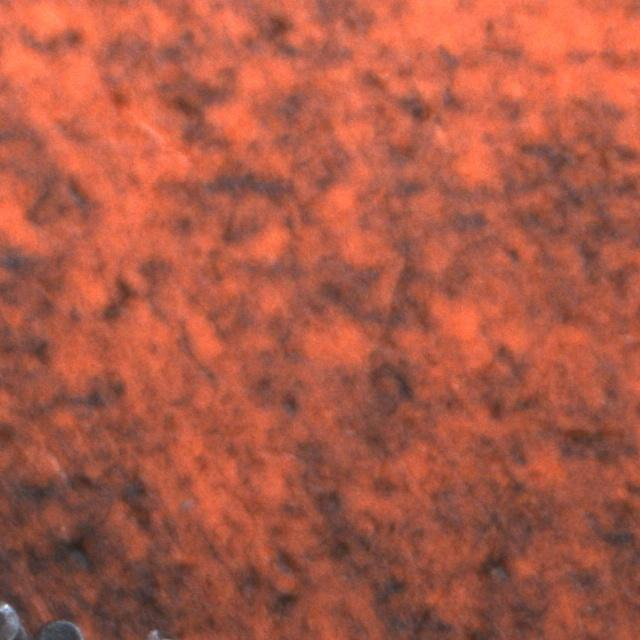tool: (34, 617, 84, 640), (0, 597, 22, 640)
